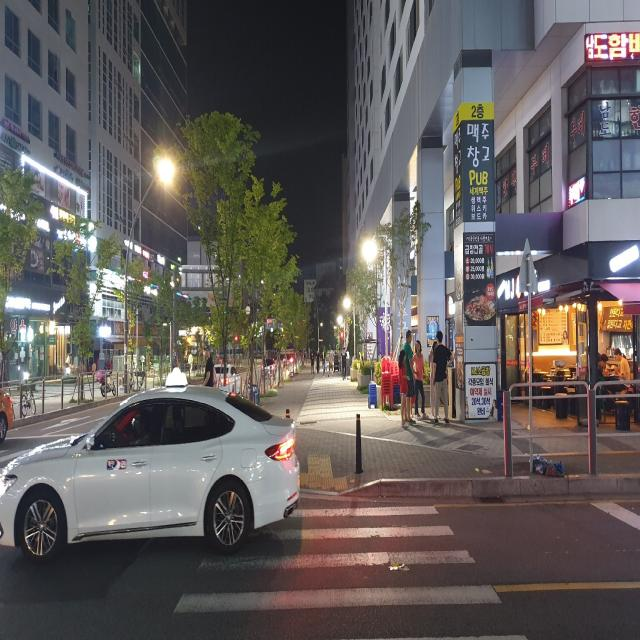횡단보도: (171, 504, 528, 640)
